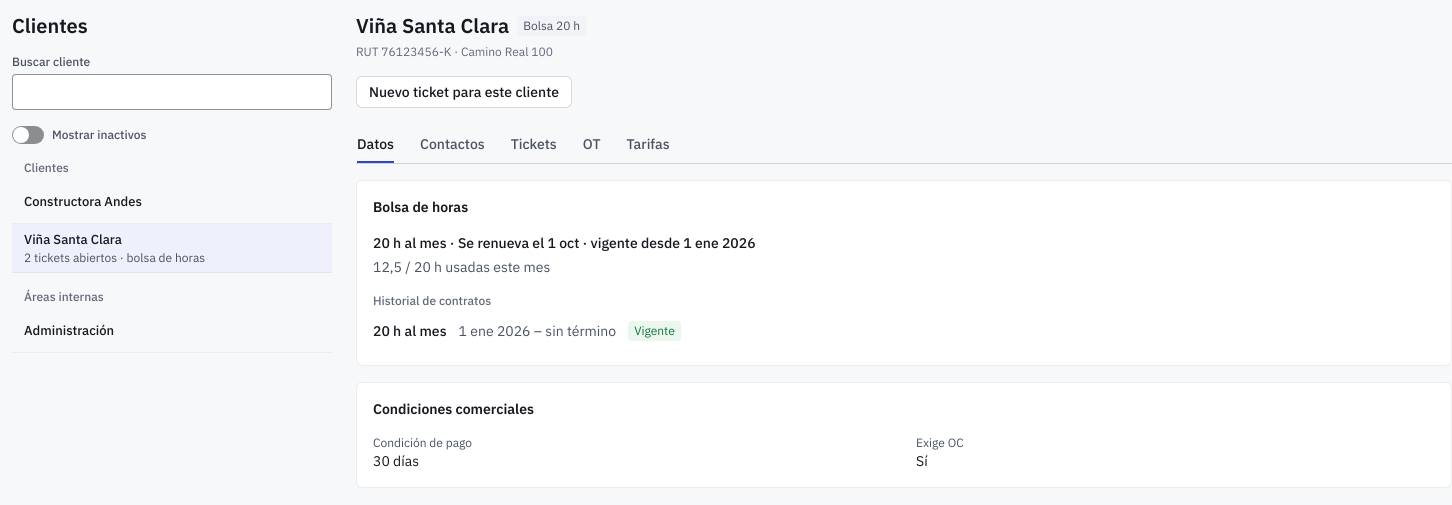
Test case: la ficha lista las OT del cliente con su tipo y etapa, y enlaza a todas
Step 1. Click the tab "OT" → (592,144), box [582,124,602,163]
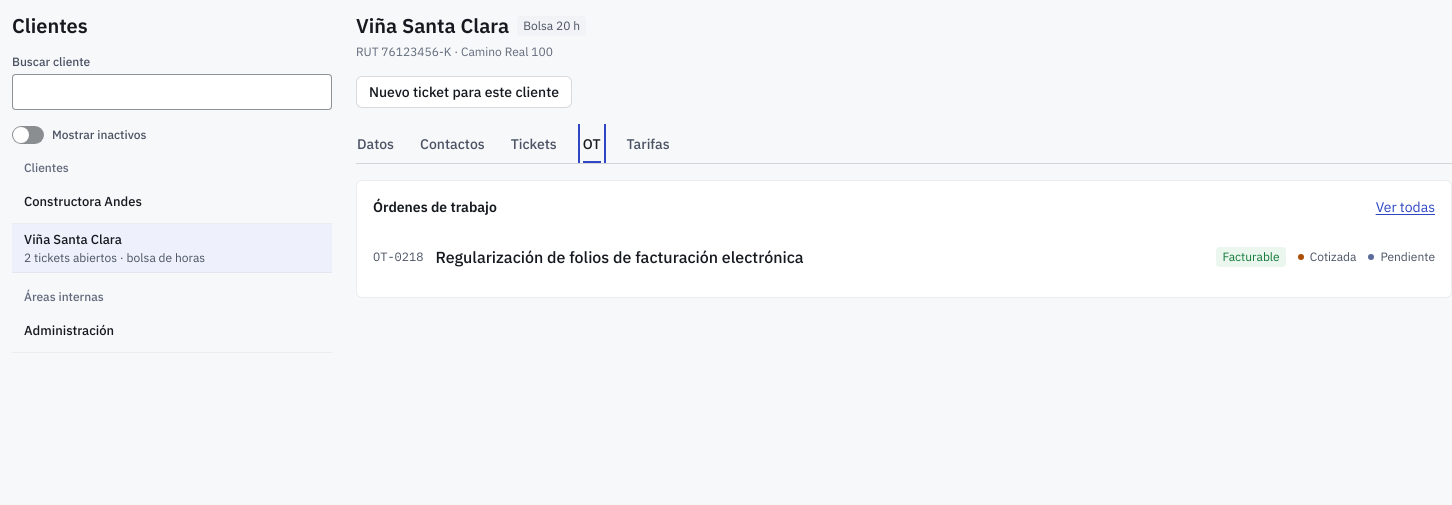
Expected: the link "OT-0218" is shown, [373,249,423,265]
Expected: the text "Regularización de folios de facturación electrónica" is shown, [435,247,804,267]
Expected: the text "Facturable" is shown, [1216,247,1286,267]
